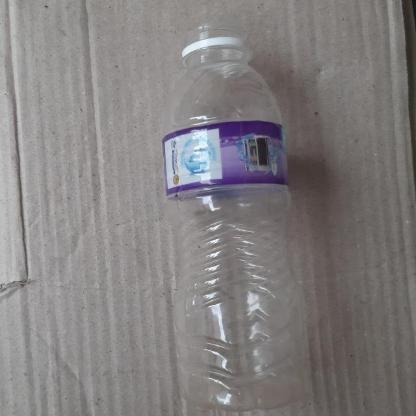Plastic Bottle: (160, 23, 306, 416)
